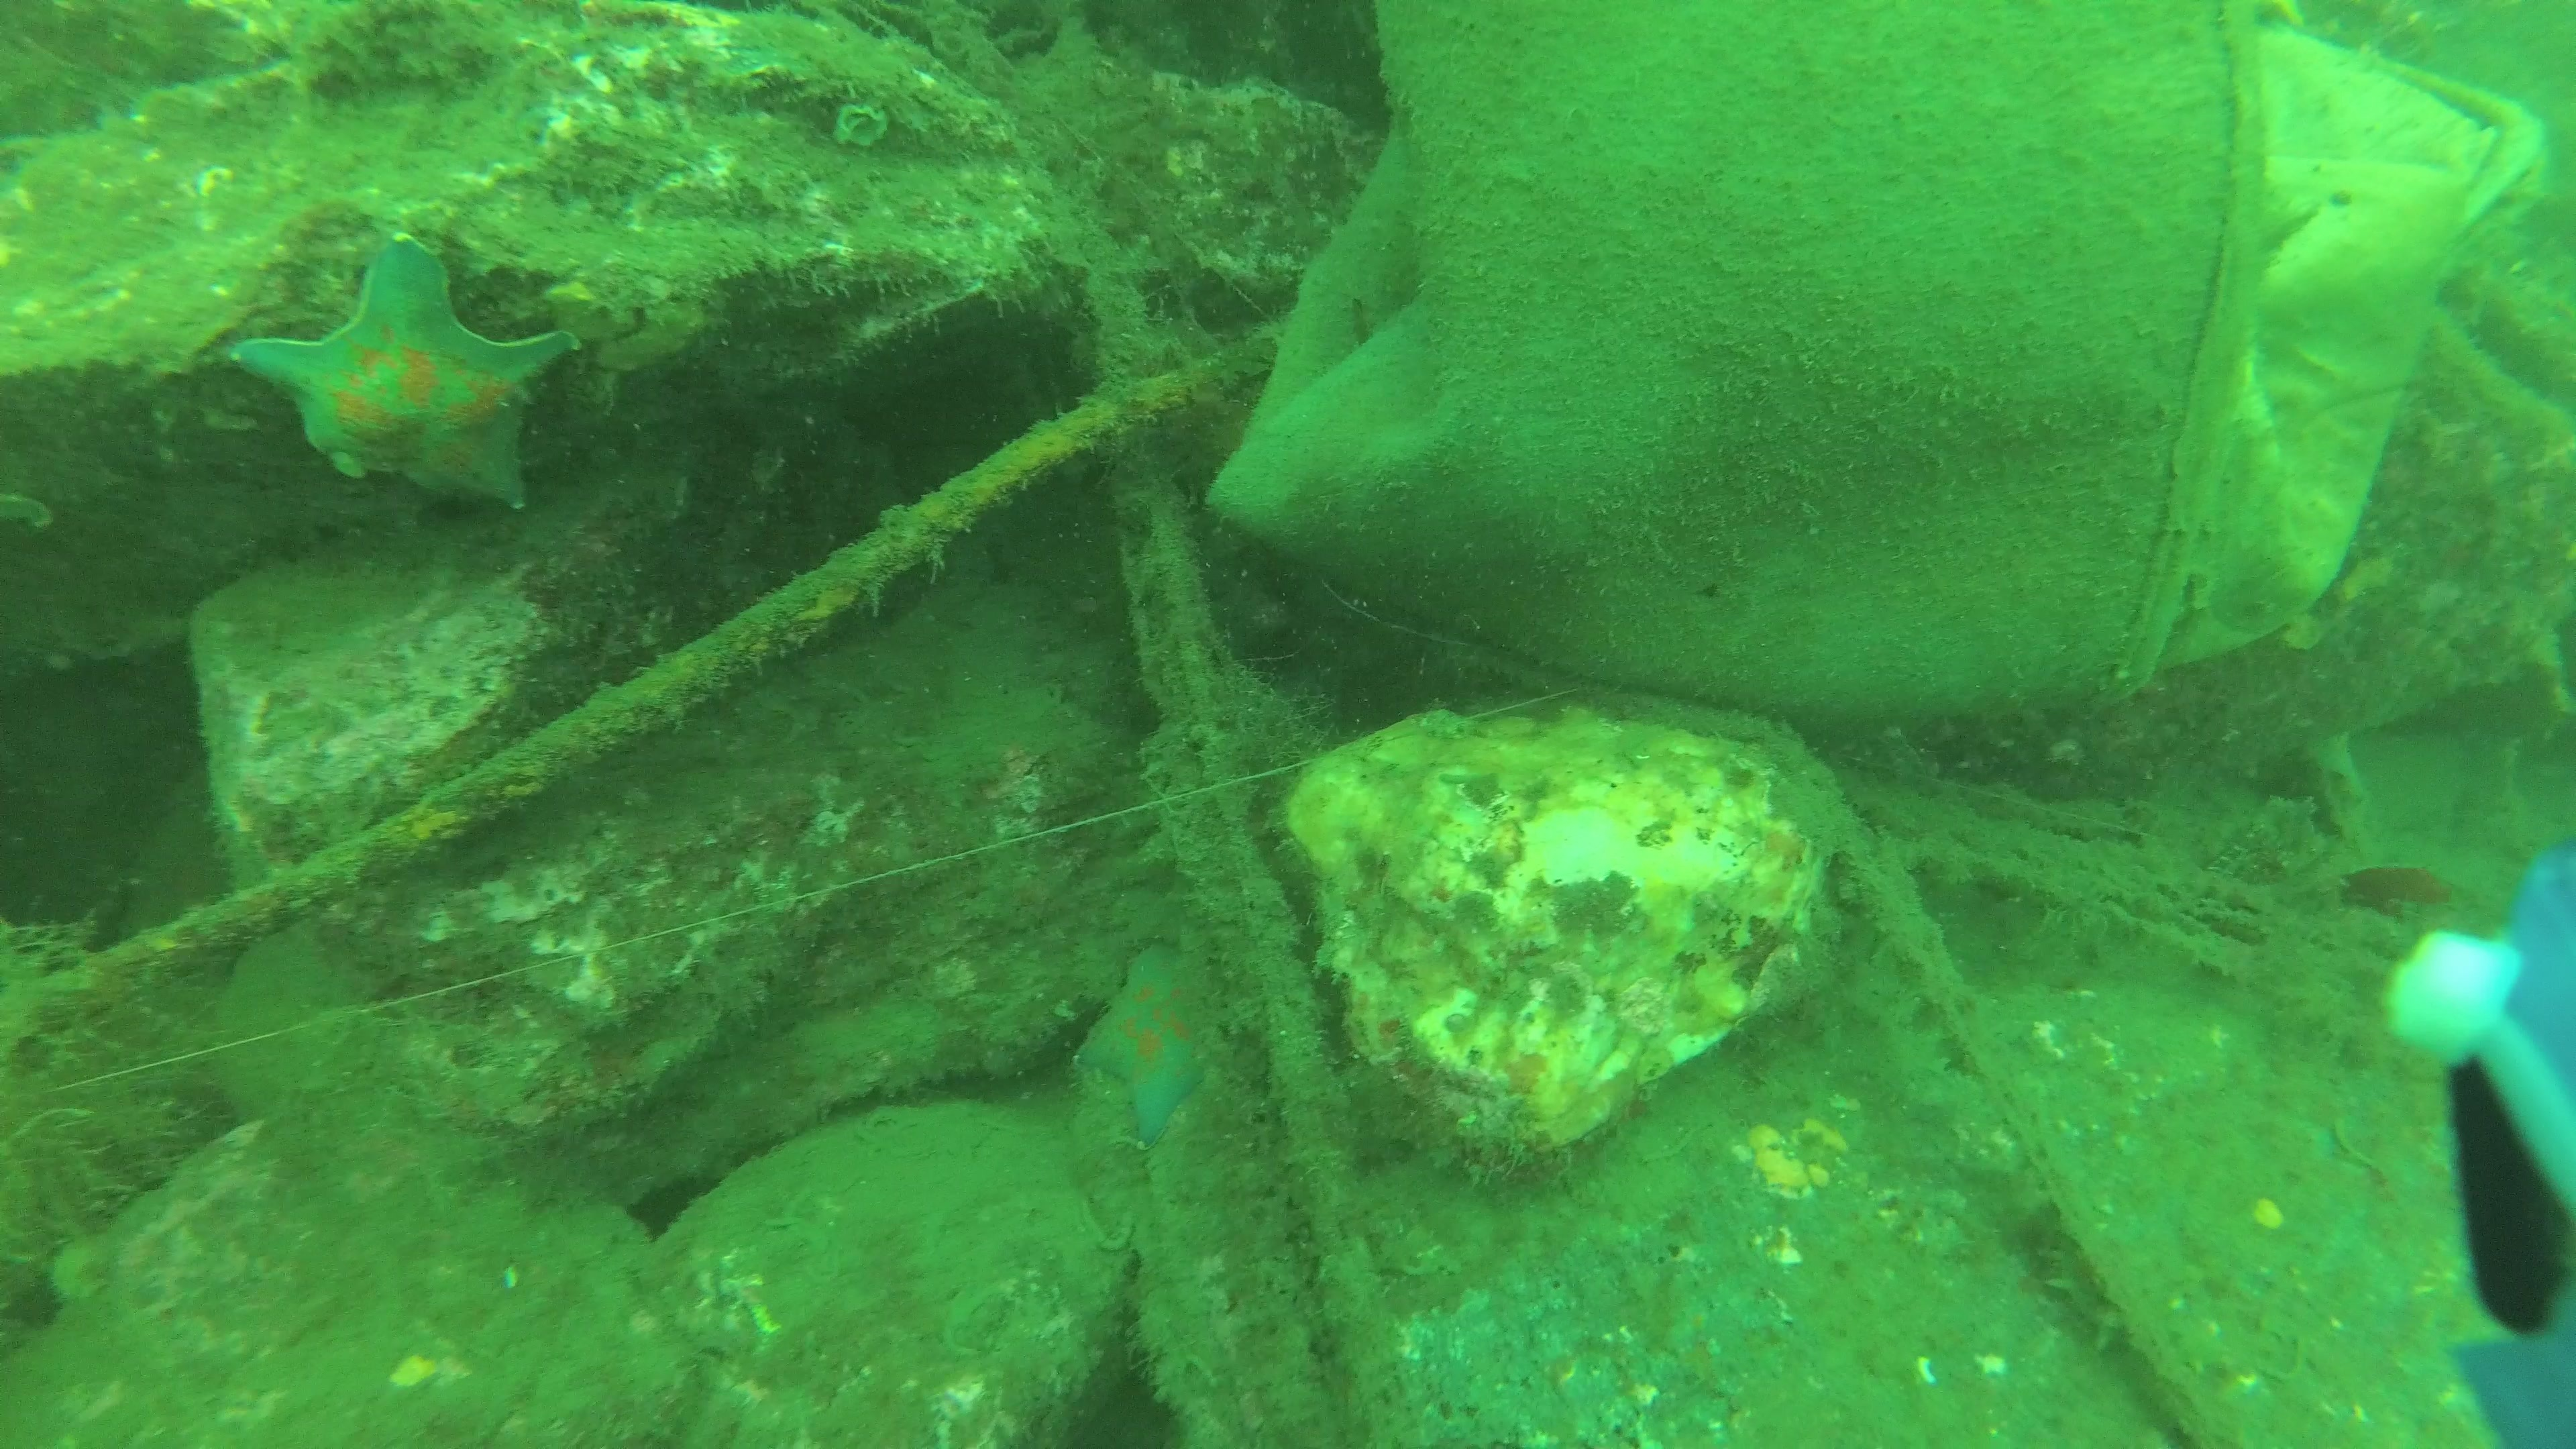starfish: (221, 232, 591, 520), (1070, 938, 1221, 1146)
